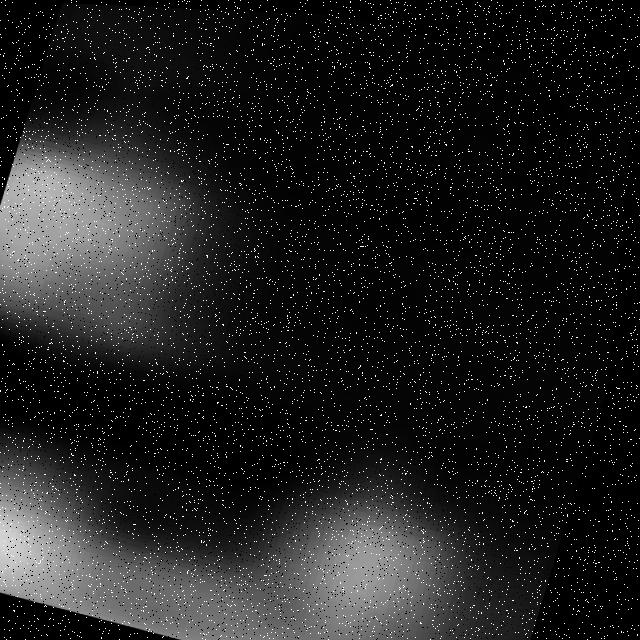person: (1, 375, 582, 640), (1, 102, 259, 372)
